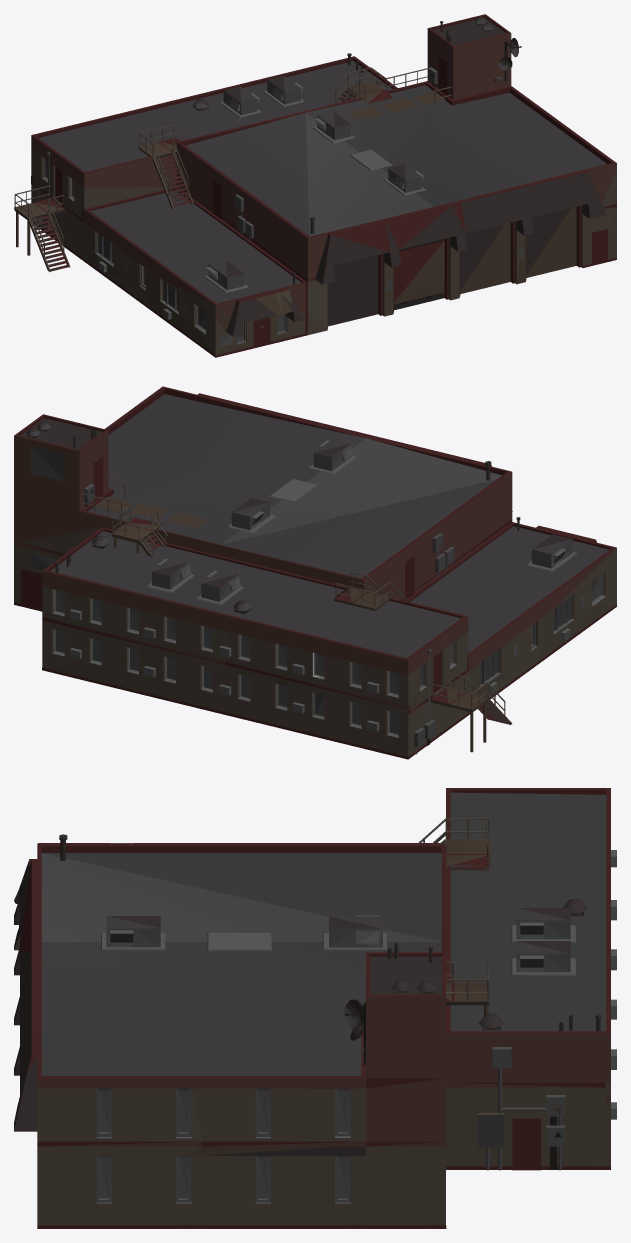
File: firestation.glb
3 renders of one model, top to bottom at view 1: azimuth 30°, elevation 25°; view 2: azimuth 150°, elevation 25°; view 3: azimuth 270°, elevation 25°, orthographic. The views are drawn at different scales.
Visible parts, largest first — view 1: body; view 2: body; view 3: body.
Boxes of the visible parts, box(x1,y1,x2,y2) form: body: box(14, 14, 616, 357); body: box(14, 386, 616, 759); body: box(14, 788, 616, 1228).
Size of the model in its own units: 2.96 by 1 by 2.23.
